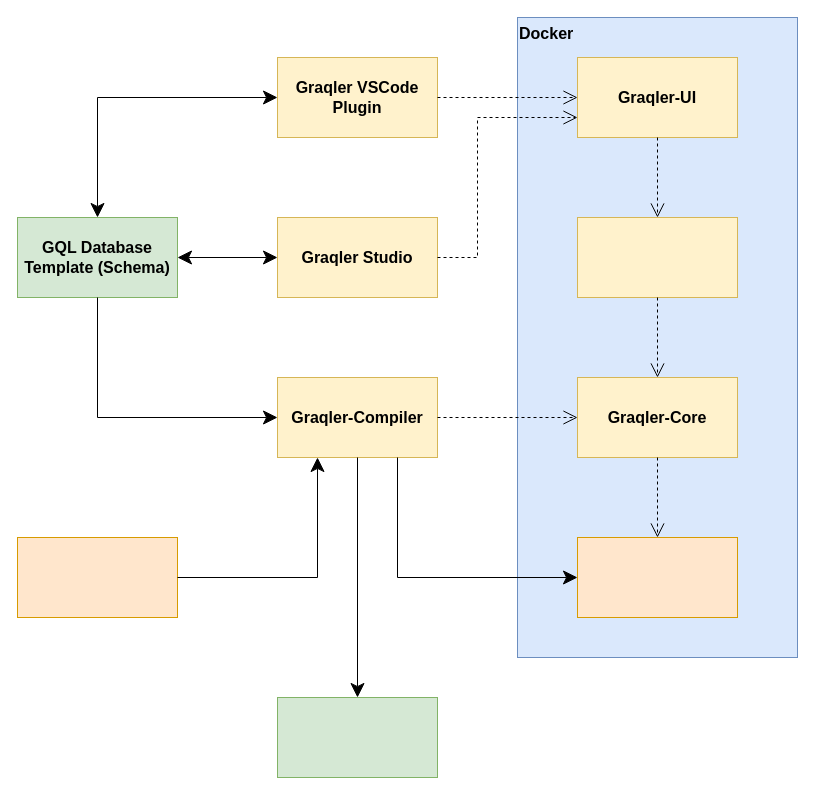
Some shapes in this 815 by 795 pixel diagram are drawn without their labels. The shapes that lost their labels are listed below. From the top down, each one's box as (x1, y1, x2, y2) in pixels, then its label:
(576, 216, 738, 298): Graqler-LSP
(16, 536, 178, 618): Graqler Metamodel GQL Template
(576, 536, 738, 618): Graqler Metamodel Database (Bootstrapped)
(276, 696, 438, 778): Stand Alone Graph Database
